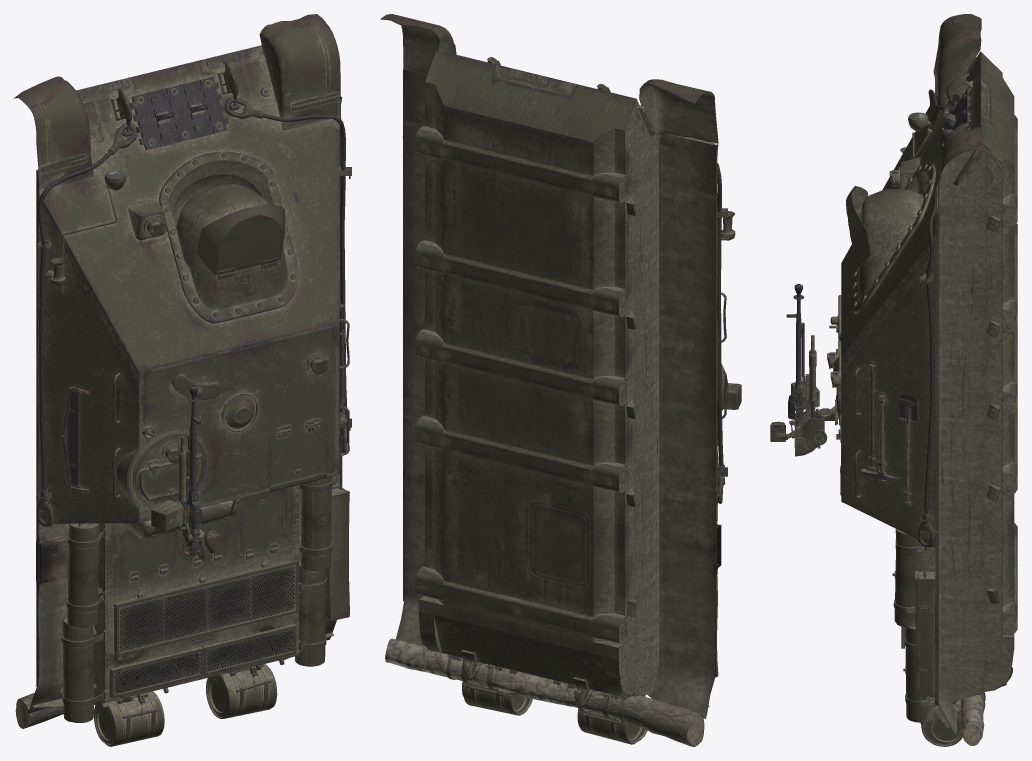
Rendered from Hull.glb.
3 views of the same model, side by side, from view 1: azimuth 30°, elevation 25°; view 2: azimuth 150°, elevation 25°; view 3: azimuth 270°, elevation 25° (orthographic). The views are drawn at different scales.
Parts seen in each view (by area): view 1: set_0_group_0; view 2: set_0_group_0; view 3: set_0_group_0.
Boxes of the visible parts, x1,y1,x2,y2 form: set_0_group_0: (14,14,351,746); set_0_group_0: (380,14,741,746); set_0_group_0: (770,14,1017,746).
Size of the model in its own units: 3.25 by 6.53 by 2.32.
1 material, 1 textured.
